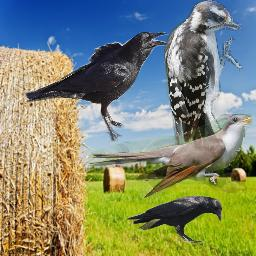Crow: (25, 31, 169, 143), (125, 195, 222, 243)
Cuckoo: (88, 114, 252, 198)
Woodpecker: (164, 0, 243, 155)
